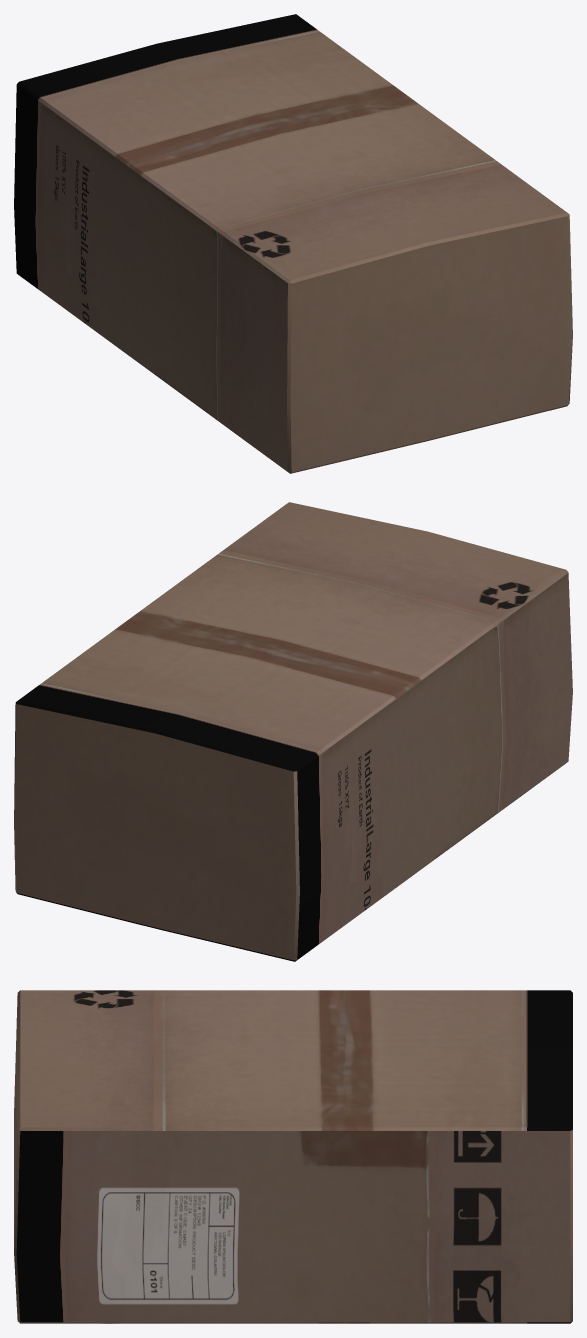
File: BoxRectangularBig.glb
The picture shows the model from 3 angles, top to bottom: view 1: azimuth 30°, elevation 25°; view 2: azimuth 150°, elevation 25°; view 3: azimuth 270°, elevation 25°; orthographic projection.
Parts seen in each view (by area): view 1: BoxRectangularBig; view 2: BoxRectangularBig; view 3: BoxRectangularBig.
Part boxes in pixels (x1,y1,x2,y2): BoxRectangularBig: [14, 14, 572, 473]; BoxRectangularBig: [14, 502, 572, 961]; BoxRectangularBig: [14, 990, 572, 1323].
Size of the model in its own units: 0.362 by 0.2405 by 0.6044.
1 material, 1 textured.
